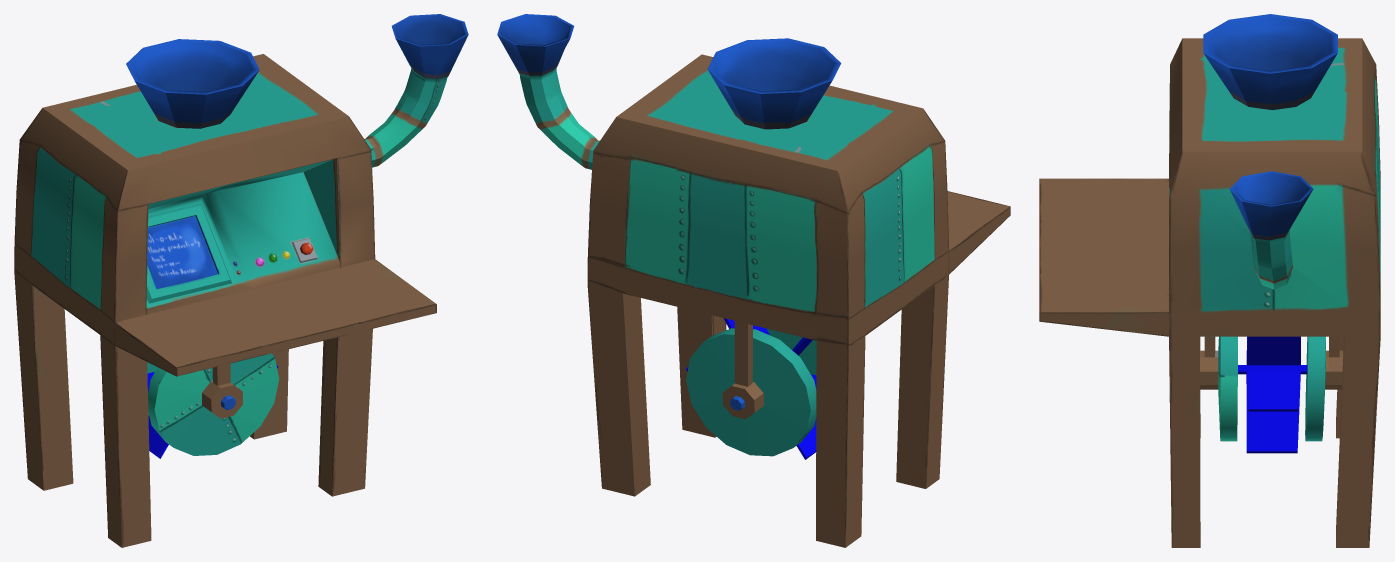
Rendered from nut-o-matic_spew_prototype.fbx.
3 views of the same model, side by side, from view 1: azimuth 30°, elevation 25°; view 2: azimuth 150°, elevation 25°; view 3: azimuth 270°, elevation 25° (orthographic). The views are drawn at different scales.
Visible parts, largest first — view 1: pCylinderShape12; view 2: pCylinderShape12, pCylinder14; view 3: pCylinderShape12, pCylinder14.
Part boxes in pixels (x1=…): pCylinderShape12: x1=14, y1=14, x2=468, y2=547; pCylinderShape12: x1=497, y1=14, x2=1010, y2=547; pCylinder14: x1=685, y1=318, x2=816, y2=459; pCylinderShape12: x1=1039, y1=14, x2=1380, y2=547; pCylinder14: x1=1238, y1=336, x2=1307, y2=453.
Size of the model in its own units: 23.36 by 23.41 by 16.47.
Materials: 2 (1 with a texture image).
